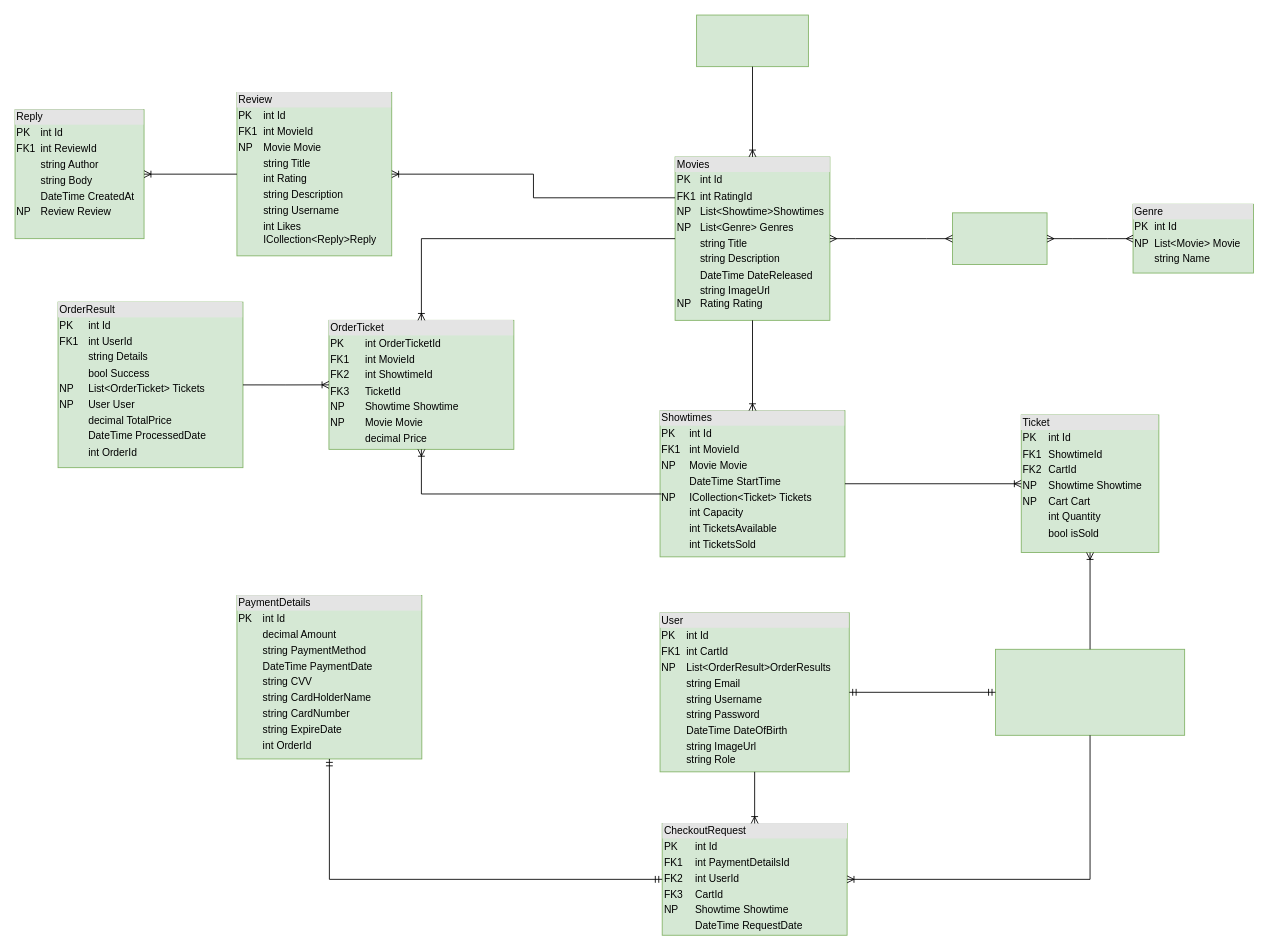
This 1269x950 diagram has some shape labels left out. The centre of each missing label's shape, as x and y in pixels:
Cart PK int CartId FK1 int UserId NP User User NP ICollection<Ticket> Tickets: (1090,691)
MovieGenres PK, FK1 MovieId PK, FK2 GenreId: (999,238)
Rating PK Id string Name: (752,40)
